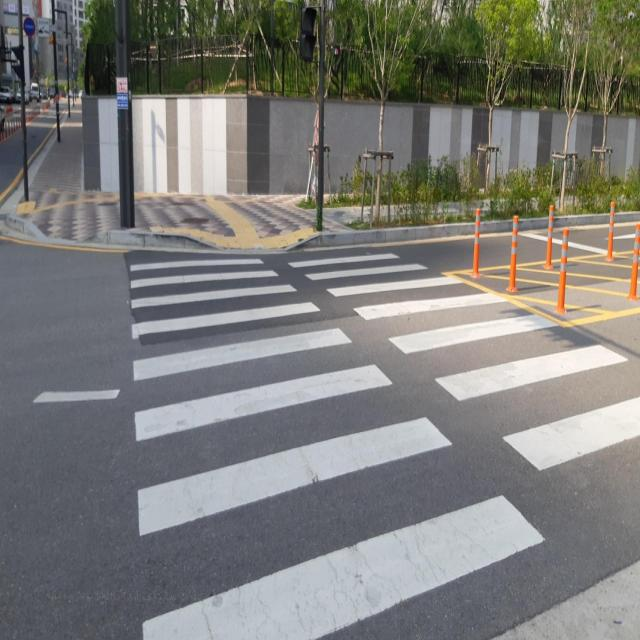횡단보도: (131, 250, 640, 640)
